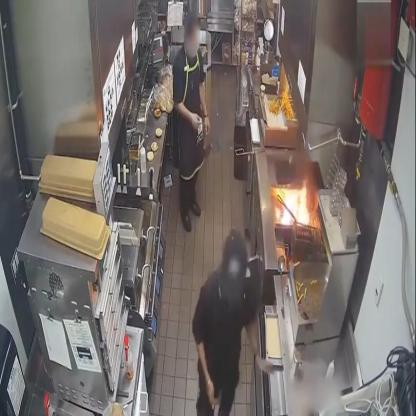fire: (273, 181, 313, 225)
